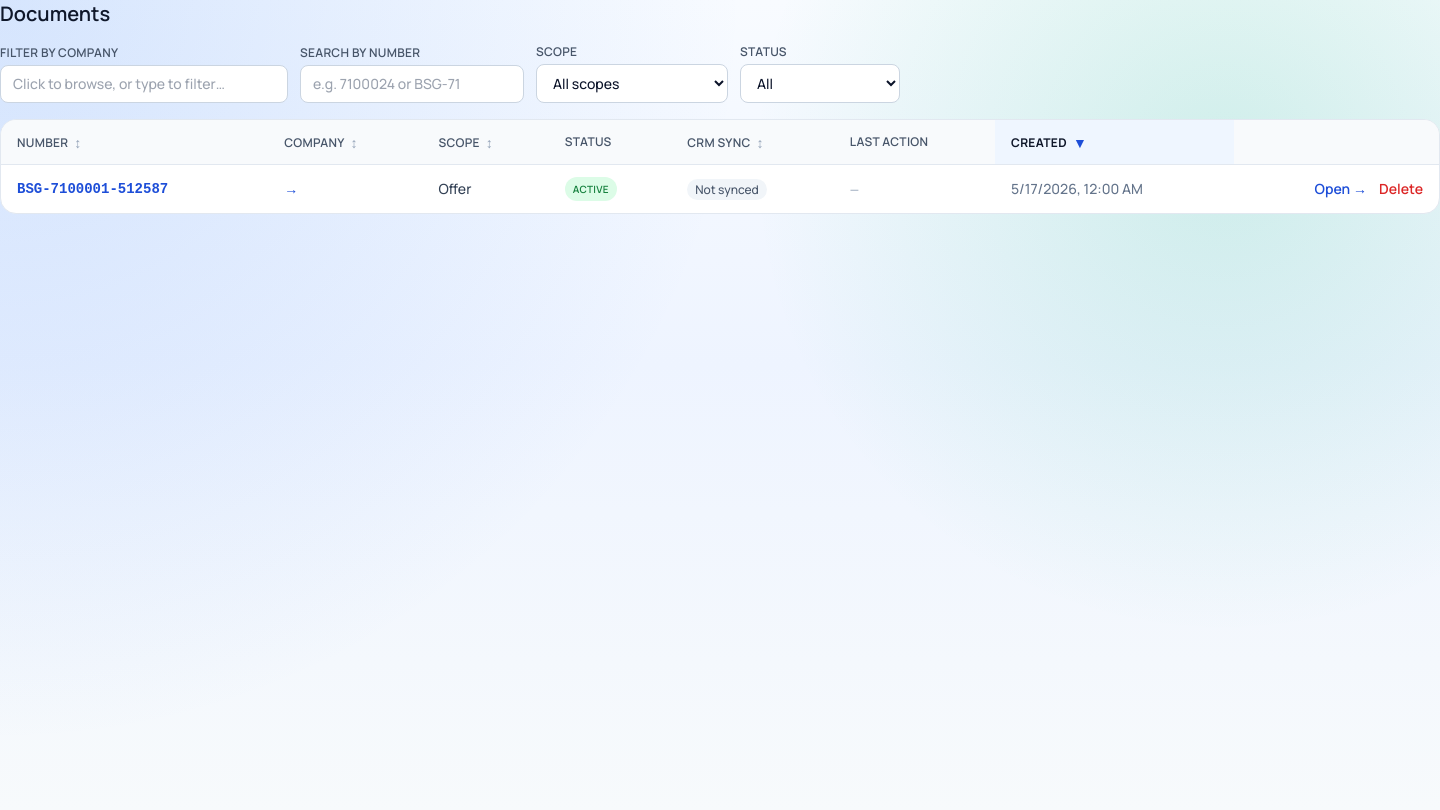
Scenario: DocumentsListPage — Open/Delete actions (UI-parity) › shows a Delete button for an admin on an alive row and opens the modal
Expected: the link "BSG-7100001-512587" is shown, x1=17 y1=181 x2=168 y2=197
Click the button "Delete" at (1401, 189), box x1=1379 y1=179 x2=1423 y2=199
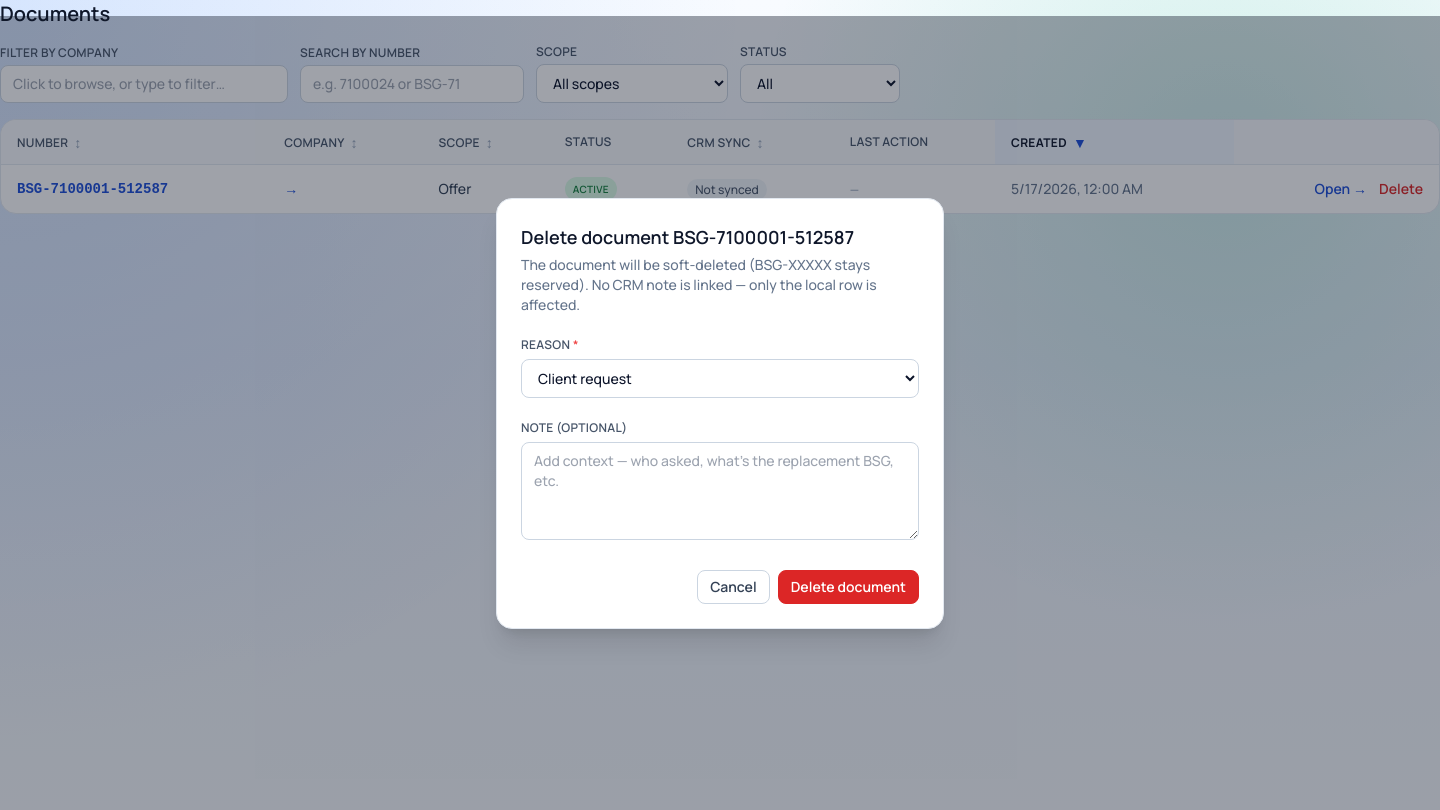
Expected: the heading "Delete document BSG-7100001-512587" is shown, x1=521 y1=224 x2=854 y2=248
